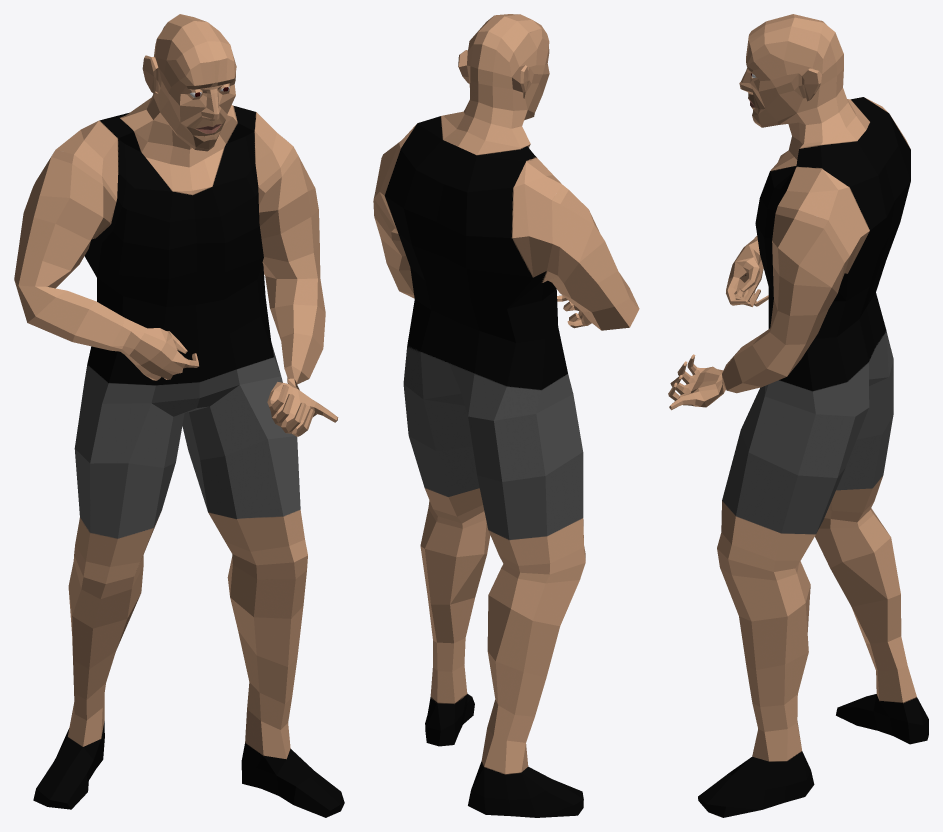
File: PlayerIdle(70).obj
3 renders of one model, left to right at view 1: azimuth 30°, elevation 25°; view 2: azimuth 150°, elevation 25°; view 3: azimuth 270°, elevation 25°, orthographic. The views are drawn at different scales.
Visible parts, largest first — view 1: Plane002; view 2: Plane002; view 3: Plane002.
Boxes of the visible parts, left/top/right/bottom form: Plane002: left=14, top=14, right=344, bottom=817; Plane002: left=373, top=14, right=639, bottom=817; Plane002: left=668, top=14, right=928, bottom=817.
Size of the model in its own units: 669 by 1799 by 569.
